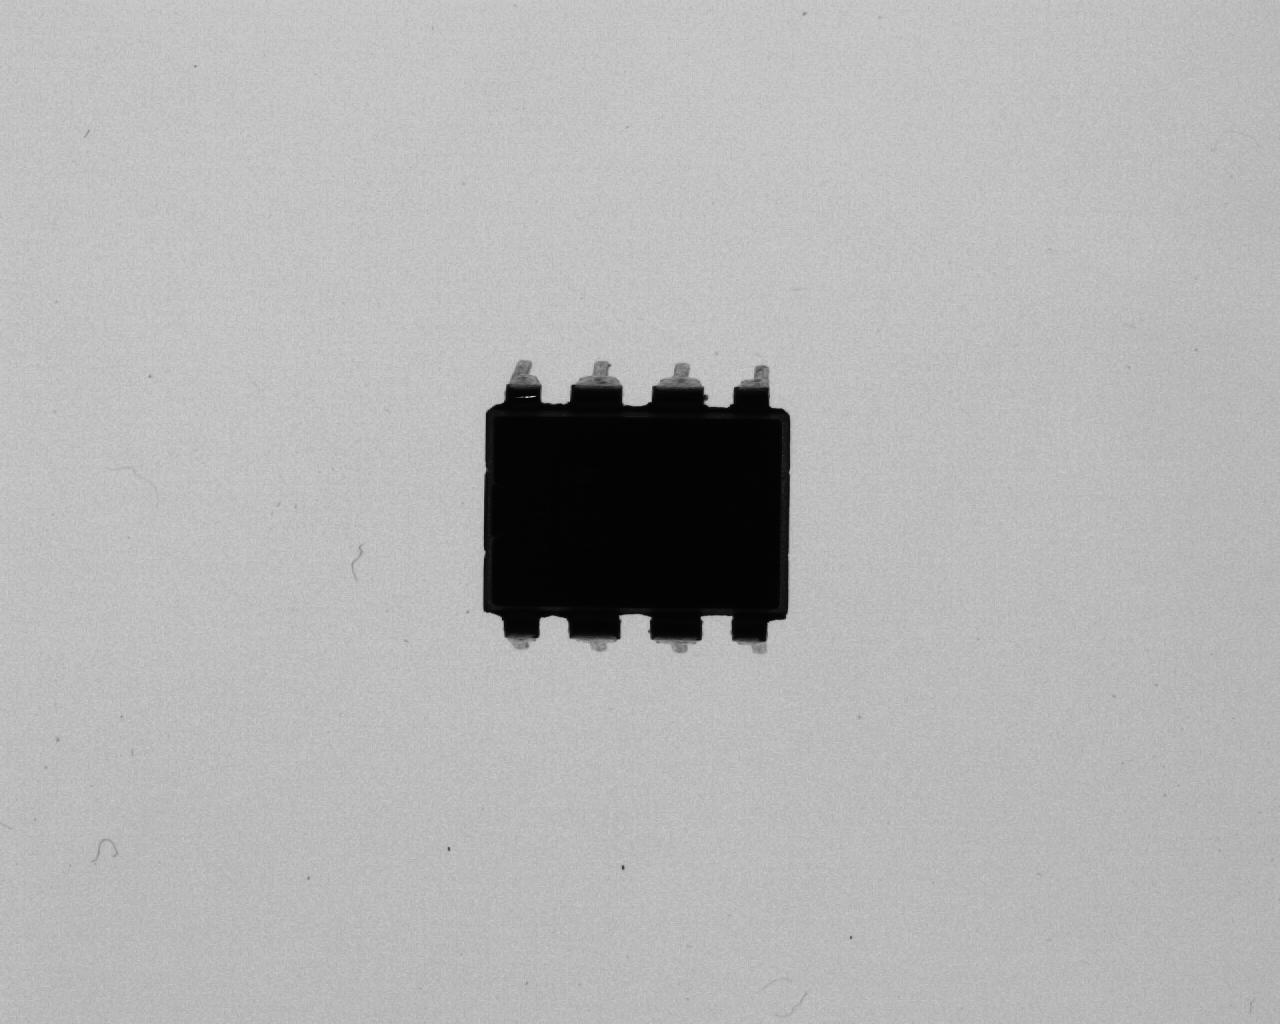Leg: (470, 354, 548, 404), (642, 362, 713, 414), (565, 357, 629, 410), (560, 615, 625, 659), (643, 615, 707, 657), (723, 364, 774, 416), (724, 614, 772, 657), (494, 616, 545, 651)
